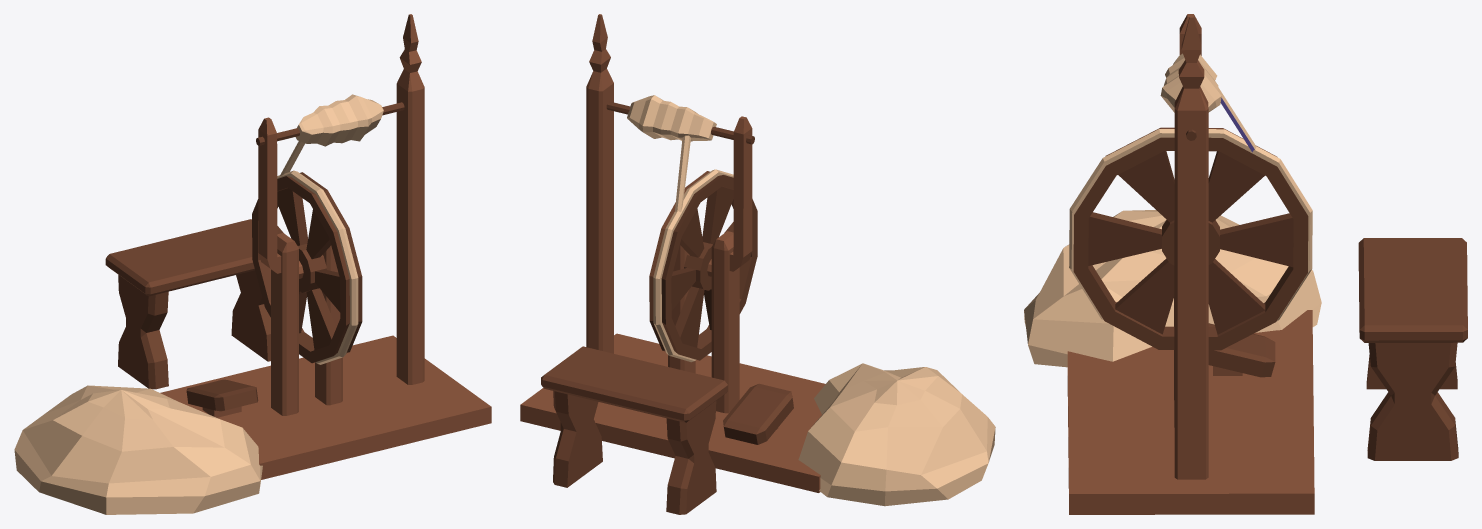
The model's file is spinning_wool.fbx.
3 renders of one model, left to right at view 1: azimuth 30°, elevation 25°; view 2: azimuth 150°, elevation 25°; view 3: azimuth 270°, elevation 25°, orthographic. The views are drawn at different scales.
Parts seen in each view (by area): view 1: spinning_rack, wool, stool, spinning_wheel, spindle, spinning_pedal; view 2: spinning_rack, wool, stool, spinning_wheel, spindle, spinning_pedal, thread; view 3: spinning_rack, spinning_wheel, stool, wool, spinning_pedal, spindle.
Boxes of the visible parts, box(x1,y1,x2,y2) form: spinning_rack: box(160, 14, 491, 479); wool: box(14, 385, 262, 514); stool: box(105, 219, 270, 389); spinning_wheel: box(252, 170, 362, 364); spindle: box(256, 94, 404, 146); spinning_pedal: box(186, 379, 258, 411); spinning_rack: box(520, 14, 825, 492); wool: box(798, 363, 995, 506); stool: box(541, 346, 727, 514); spinning_wheel: box(649, 169, 757, 362); spindle: box(606, 95, 754, 144); spinning_pedal: box(723, 383, 793, 444); thread: box(675, 135, 690, 212); spinning_rack: box(1067, 14, 1314, 514); spinning_wheel: box(1069, 127, 1312, 350); stool: box(1358, 238, 1467, 460); wool: box(1024, 210, 1321, 367); spinning_pedal: box(1208, 323, 1275, 377); spindle: box(1160, 53, 1221, 140).
Bounding box in the file's own units: 84.49 × 74.56 × 62.67.
